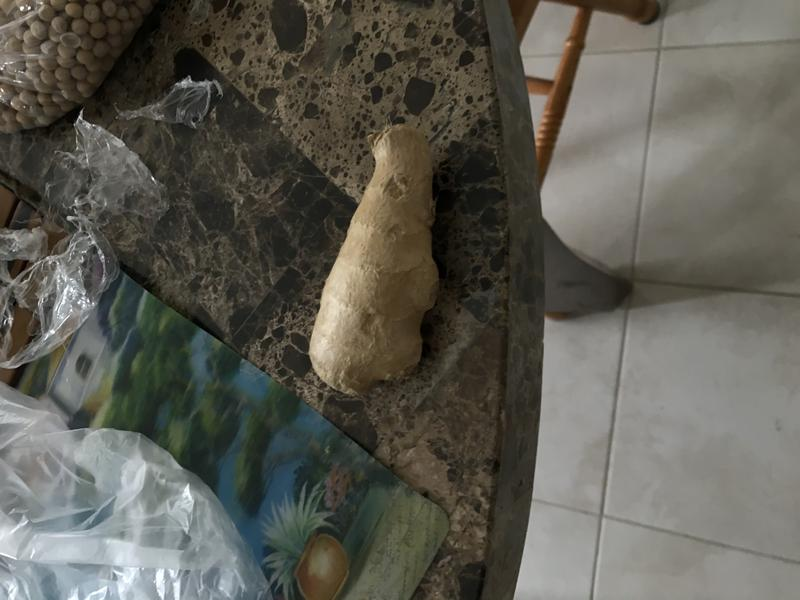ginger: (296, 108, 447, 403)
